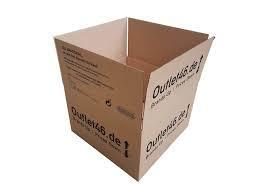box: (51, 17, 215, 183)
